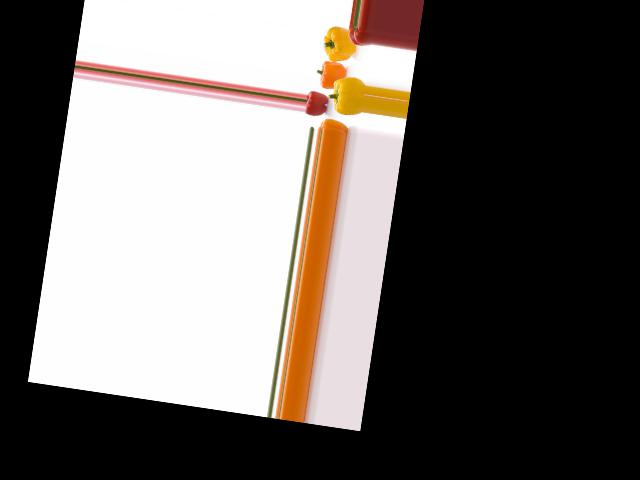bell_pepper: (317, 115, 349, 134)
